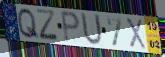7: (106, 16, 123, 48)
P: (60, 10, 82, 45)
Q: (16, 7, 41, 41)
U: (80, 11, 104, 47)
X: (125, 17, 148, 51)
Z: (35, 8, 60, 43)
